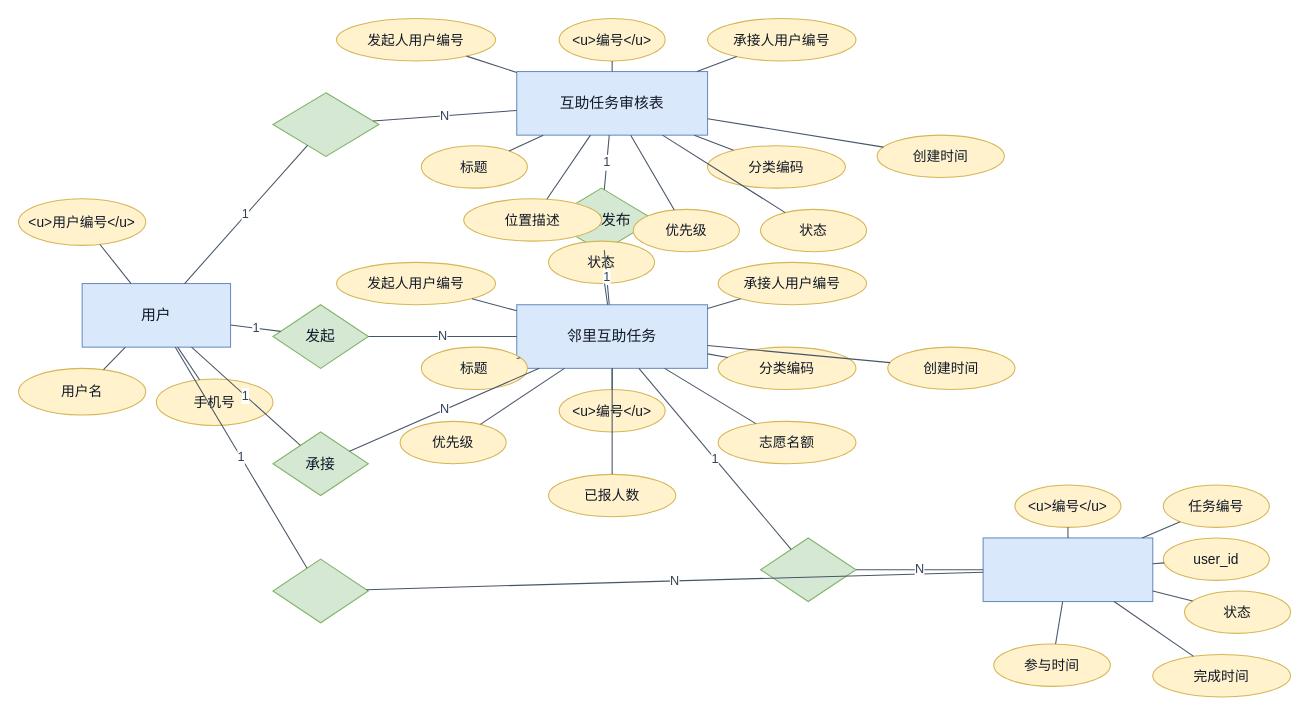
This 1309x715 diagram has some shape labels left out. The shapes that lost their labels are listed below. From the top down, each one's centre as x and y in pixels, then its label:
the point at 325,124: 提交审核
the point at 807,569: 对应
the point at 1067,569: 互助报名
the point at 320,590: 参与
